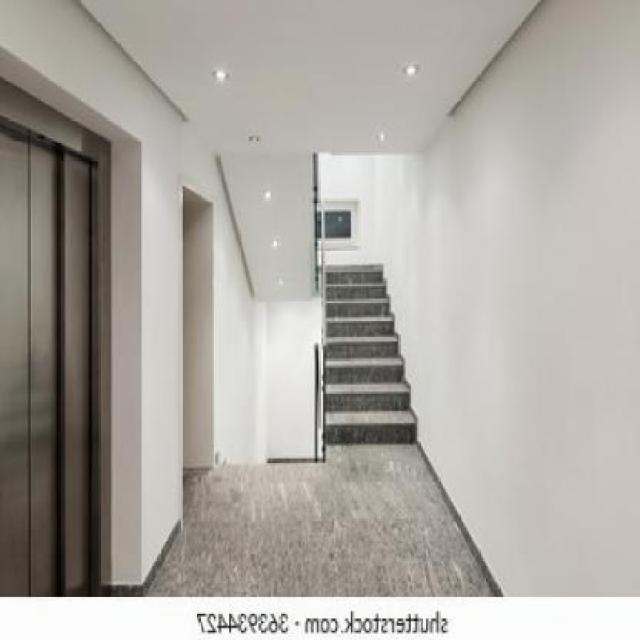stair: (304, 252, 413, 454)
